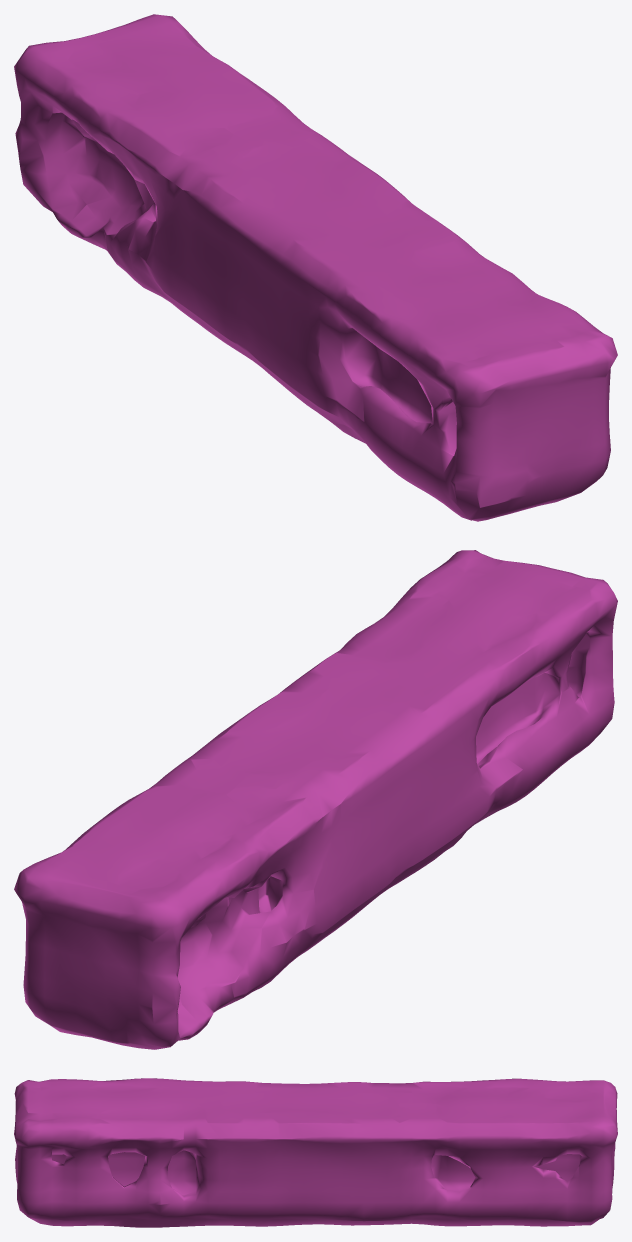
Rendered from tv_stand_12_6.obj.
3 views of the same model, one above another, from view 1: azimuth 30°, elevation 25°; view 2: azimuth 150°, elevation 25°; view 3: azimuth 270°, elevation 25° (orthographic). The views are drawn at different scales.
Bounding box in the file's own units: 0.1652 × 0.1632 × 0.7877.
